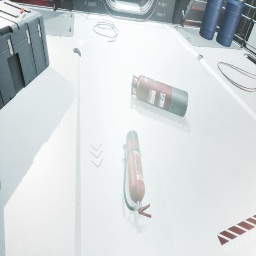FireExtinguisher ]: (123, 130, 151, 218)
NitrogenTank ,: (131, 74, 188, 117)
SafetySwitchPanel ,: (246, 47, 252, 51)
